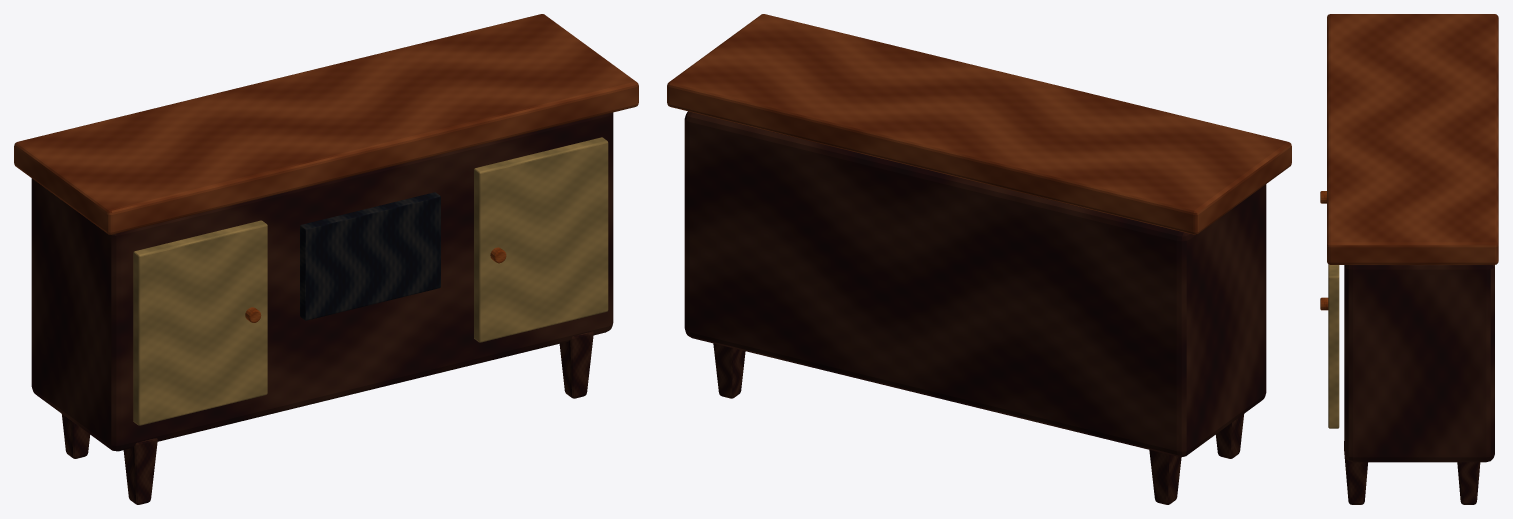
File: sideboard-pbr-v1.glb
The picture shows the model from 3 angles, left to right: view 1: azimuth 30°, elevation 25°; view 2: azimuth 150°, elevation 25°; view 3: azimuth 270°, elevation 25°; orthographic projection. The views are drawn at different scales.
Visible parts, largest first — view 1: sideboard-walnut-body, sideboard-oak-top, sideboard-ribbed-door, sideboard-ribbed-door.001, sideboard-open-cubby, sideboard-leg.002, sideboard-leg, sideboard-leg.001; view 2: sideboard-walnut-body, sideboard-oak-top, sideboard-leg.003, sideboard-leg.001, sideboard-leg; view 3: sideboard-oak-top, sideboard-walnut-body, sideboard-ribbed-door.001, sideboard-leg.002, sideboard-leg.003.
Part boxes in pixels (x1,y1,x2,y2): sideboard-walnut-body: (31, 112, 613, 451); sideboard-oak-top: (14, 14, 638, 234); sideboard-ribbed-door: (133, 220, 267, 425); sideboard-ribbed-door.001: (474, 137, 608, 342); sideboard-open-cubby: (300, 192, 440, 320); sideboard-leg.002: (559, 331, 593, 398); sideboard-leg: (123, 438, 157, 504); sideboard-leg.001: (62, 414, 90, 458); sideboard-walnut-body: (684, 111, 1266, 456); sideboard-oak-top: (667, 14, 1291, 234); sideboard-leg.003: (713, 343, 745, 398); sideboard-leg.001: (1149, 450, 1181, 504); sideboard-leg: (1215, 414, 1243, 458); sideboard-oak-top: (1327, 14, 1498, 264); sideboard-walnut-body: (1344, 265, 1494, 462); sideboard-ribbed-door.001: (1328, 264, 1339, 428); sideboard-leg.002: (1344, 441, 1367, 504); sideboard-leg.003: (1457, 462, 1480, 504).
Size of the model in its own units: 1.56 by 0.88 by 0.5085.
Materials: 5 (5 with a texture image).
